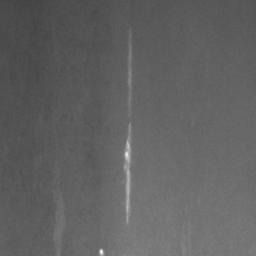Bright scratch: (124, 127, 133, 216), (128, 32, 133, 114)
